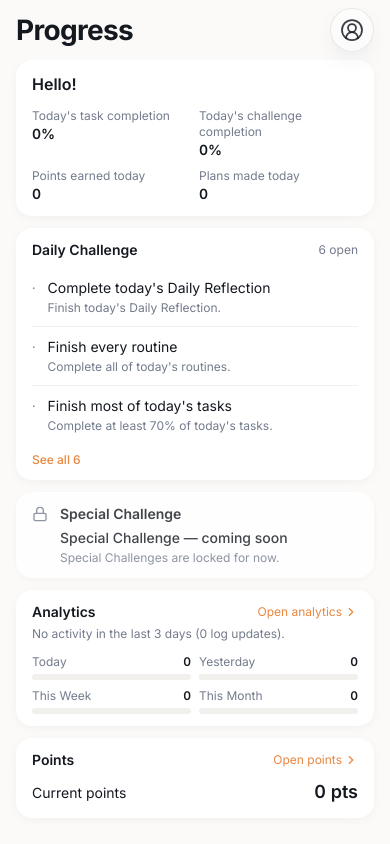
it: Phase 14-A Progress › 5. Analytics block opens the detail page
This screenshot has width=390, height=844.
Click the button with test id "progress-analytics".
click(64, 612)  # box x1=16 y1=590 x2=374 y2=726
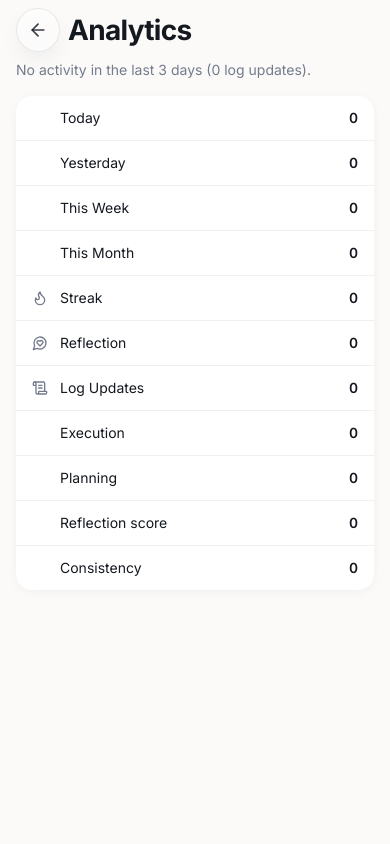
expect the heading "Analytics" is shown: met, box x1=68 y1=9 x2=192 y2=51
